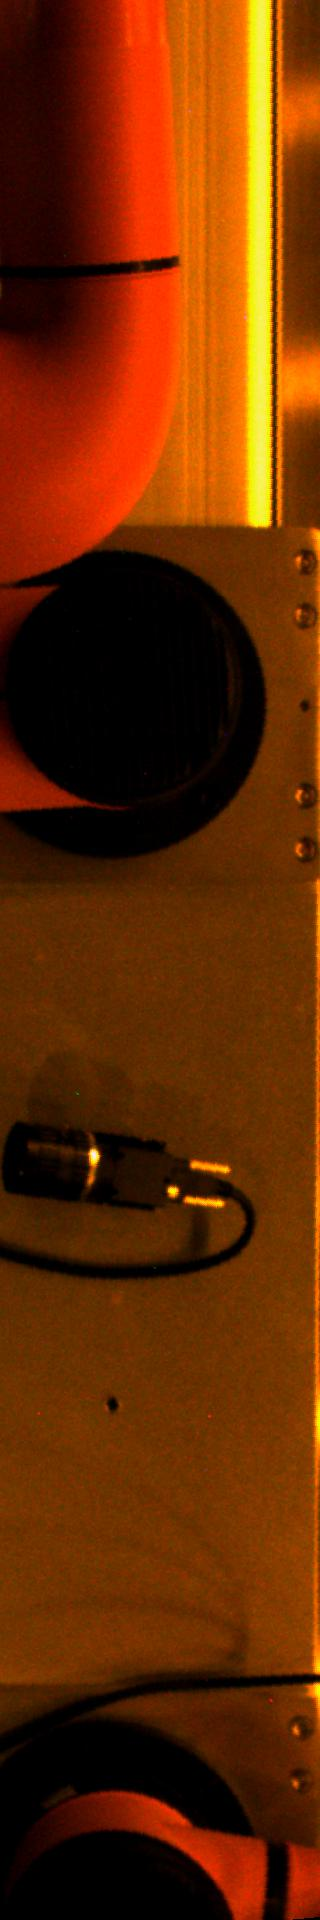keyPoint_2: (97, 1389, 128, 1419)
